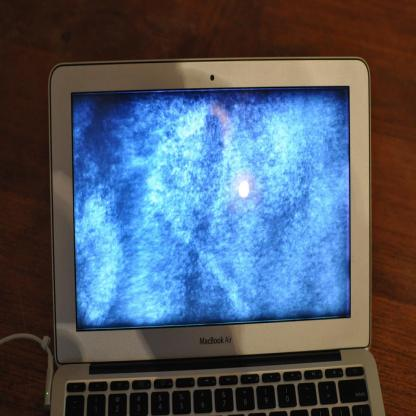board: (49, 57, 386, 416)
